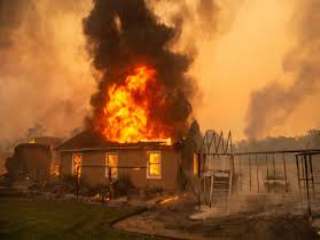fire: (101, 74, 159, 138)
smoke: (81, 4, 196, 82)
